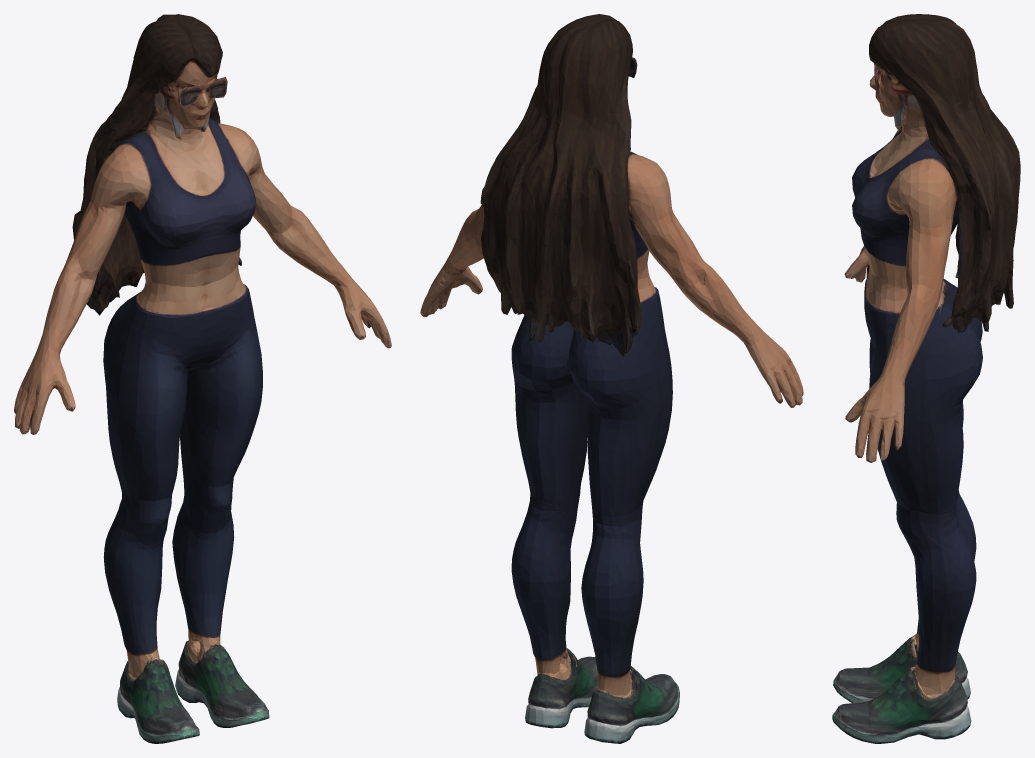
File: sonia.glb
The picture shows the model from 3 angles, left to right: view 1: azimuth 30°, elevation 25°; view 2: azimuth 150°, elevation 25°; view 3: azimuth 270°, elevation 25°; orthographic projection.
Parts seen in each view (by area): view 1: world; view 2: world; view 3: world.
Part boxes in pixels (x1=…): world: x1=14, y1=14, x2=391, y2=743; world: x1=420, y1=14, x2=803, y2=743; world: x1=832, y1=14, x2=1020, y2=743.
Bounding box in the file's own units: 0.5609 × 0.9986 × 0.2447.
1 material, 1 textured.
